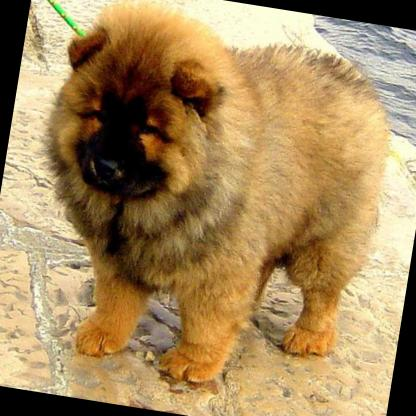chow: (8, 0, 412, 404)
